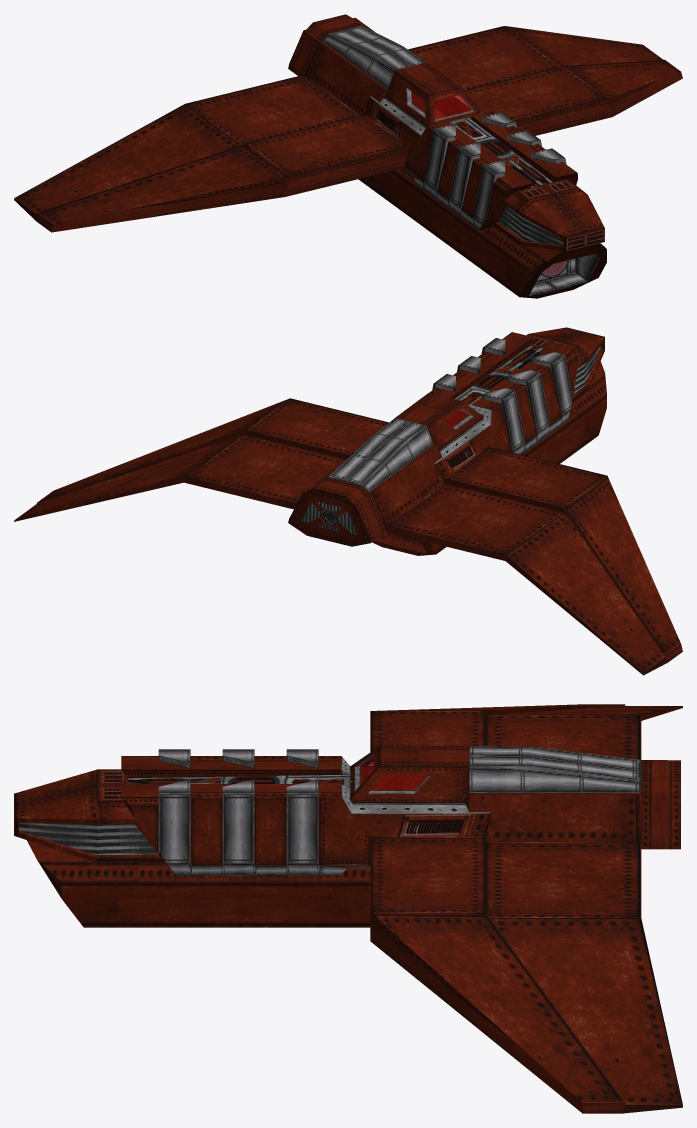
Rendered from lightning.obj.
3 views of the same model, one above another, from view 1: azimuth 30°, elevation 25°; view 2: azimuth 150°, elevation 25°; view 3: azimuth 270°, elevation 25° (orthographic). The views are drawn at different scales.
Parts seen in each view (by area): view 1: Lightning_Chasis_S; view 2: Lightning_Chasis_S; view 3: Lightning_Chasis_S.
Boxes of the visible parts, <box> form: Lightning_Chasis_S: <box>14,14,682,298</box>; Lightning_Chasis_S: <box>14,327,682,675</box>; Lightning_Chasis_S: <box>14,704,682,1113</box>.
Bounding box in the file's own units: 4.06 × 0.7499 × 2.87.
Materials: 5 (4 with a texture image).
